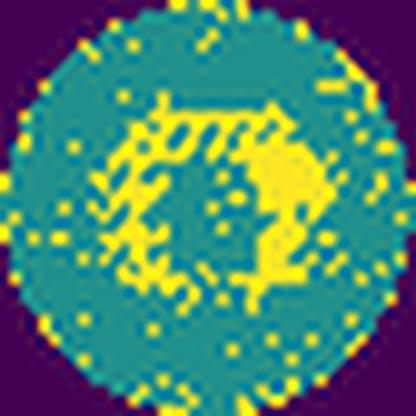Donut: (90, 99, 341, 311)
